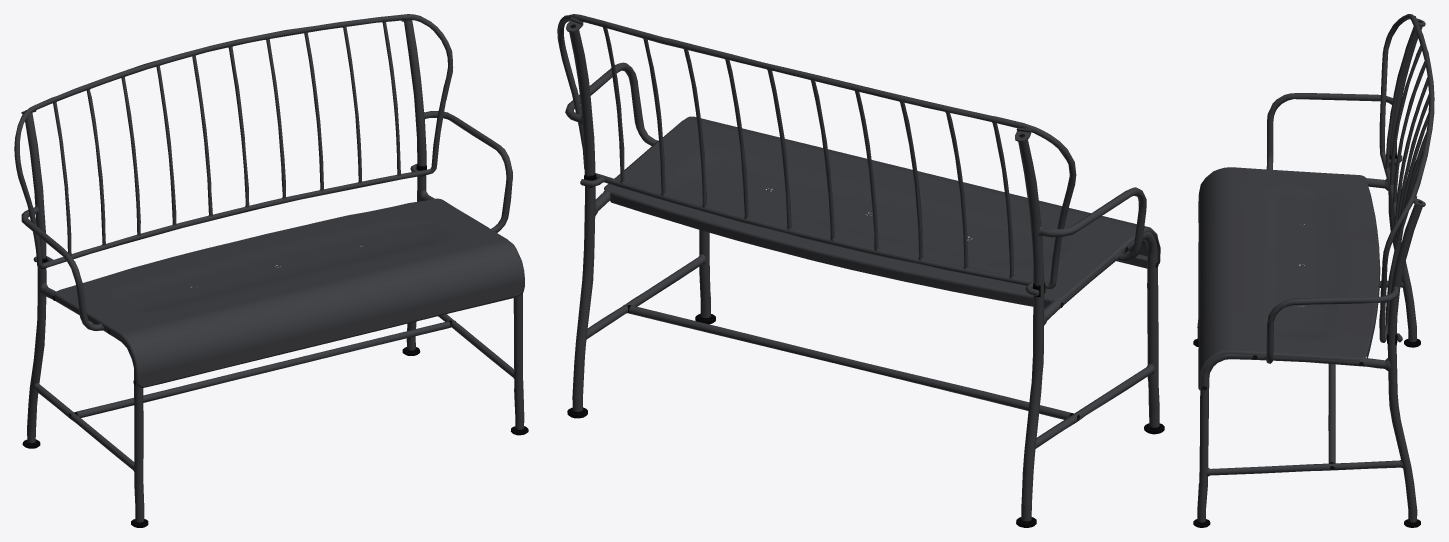
The model's file is lacko-sofa-2-plazas-exterior-gris.glb.
3 renders of one model, left to right at view 1: azimuth 30°, elevation 25°; view 2: azimuth 150°, elevation 25°; view 3: azimuth 270°, elevation 25°, orthographic. The views are drawn at different scales.
Visible parts, largest first — view 1: ASY_ART_50522733_S01_NV01; view 2: ASY_ART_50522733_S01_NV01; view 3: ASY_ART_50522733_S01_NV01.
Boxes of the visible parts, left/top/right/bottom form: ASY_ART_50522733_S01_NV01: left=14, top=14, right=528, bottom=527; ASY_ART_50522733_S01_NV01: left=557, top=14, right=1164, bottom=527; ASY_ART_50522733_S01_NV01: left=1193, top=14, right=1434, bottom=527.
Bounding box in the file's own units: 1.15 × 0.8679 × 0.5632.
1 material, 1 textured.
